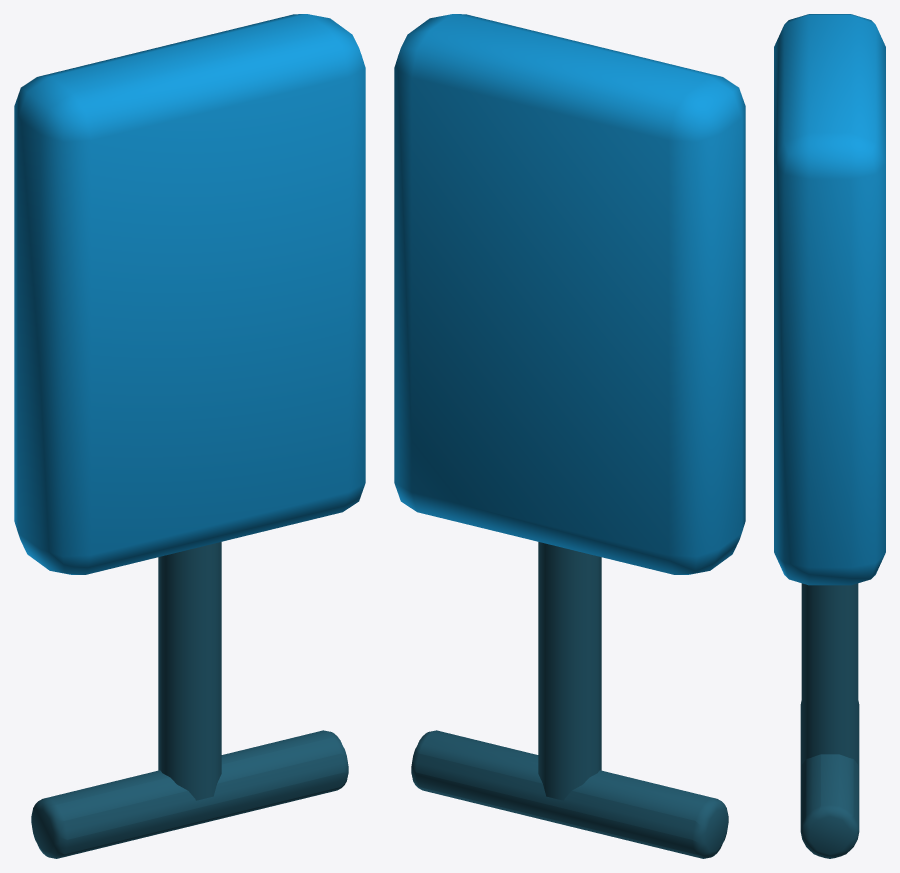
Rendered from stand barrier_blue.fbx.
3 renders of one model, left to right at view 1: azimuth 30°, elevation 25°; view 2: azimuth 150°, elevation 25°; view 3: azimuth 270°, elevation 25°, orthographic. The views are drawn at different scales.
Parts seen in each view (by area): view 1: stand barrier_blue; view 2: stand barrier_blue; view 3: stand barrier_blue.
Boxes of the visible parts, x1,y1,x2,y2 form: stand barrier_blue: (14,14,365,858); stand barrier_blue: (394,14,745,858); stand barrier_blue: (774,14,885,858).
Size of the model in its own units: 0.1456 by 0.3326 by 0.0468.
